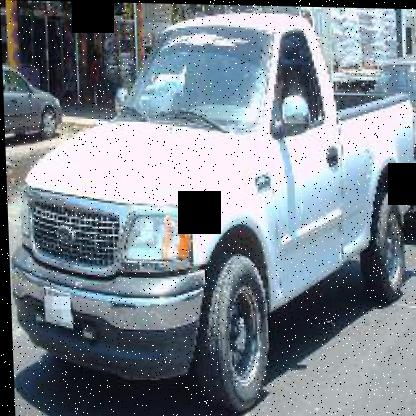not_emergency: (24, 20, 406, 388)
